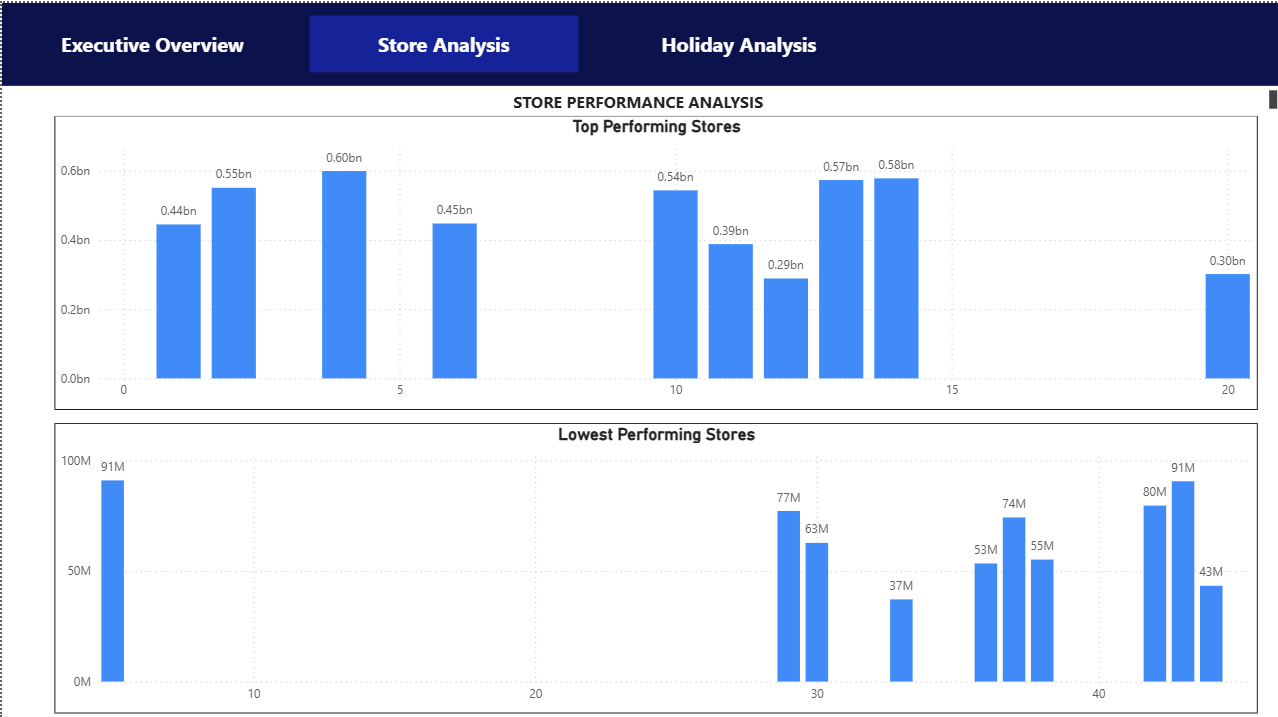

The dashboard page shown, as its layout file describes it:
{"tool":"powerbi","page":{"name":"Store Analysis","canvas":[1280,720],"ordinal":1},"visuals":[{"type":"clusteredColumnChart","title":"Lowest Performing Stores","fields":{"Y":["Sum(walmart_project walmart_sales.Weekly_Sales)"],"Category":["walmart_project walmart_sales.Store"]},"box":[52.2,419.2,1202.9,289.8],"z":0},{"type":"columnChart","title":"Top Performing Stores","fields":{"Category":["walmart_project walmart_sales.Store"],"Y":["Sum(walmart_project walmart_sales.Weekly_Sales)"]},"box":[52.2,113.2,1202.9,293.6],"z":1000},{"type":"textbox","box":[0,82.9,1280,30],"z":2000},{"type":"shape","box":[0,0,1280,82.9],"z":3000},{"type":"actionButton","box":[15.7,12.9,268.6,57.1],"z":4000},{"type":"actionButton","box":[307.1,12.9,268.6,57.1],"z":5000},{"type":"actionButton","box":[602.9,12.9,268.6,57.1],"z":6000}]}

Visuals, with their boxes in screenshot pixels (x1, y1, x2, y2), scaled from the page's 1280x720 canvas onto the 1278x717 screenshot:
"Lowest Performing Stores" clusteredColumnChart: select_region(52, 417, 1253, 706)
"Top Performing Stores" columnChart: select_region(52, 113, 1253, 405)
textbox: select_region(0, 83, 1277, 112)
shape: select_region(0, 0, 1277, 83)
actionButton: select_region(16, 13, 284, 70)
actionButton: select_region(307, 13, 575, 70)
actionButton: select_region(602, 13, 870, 70)
